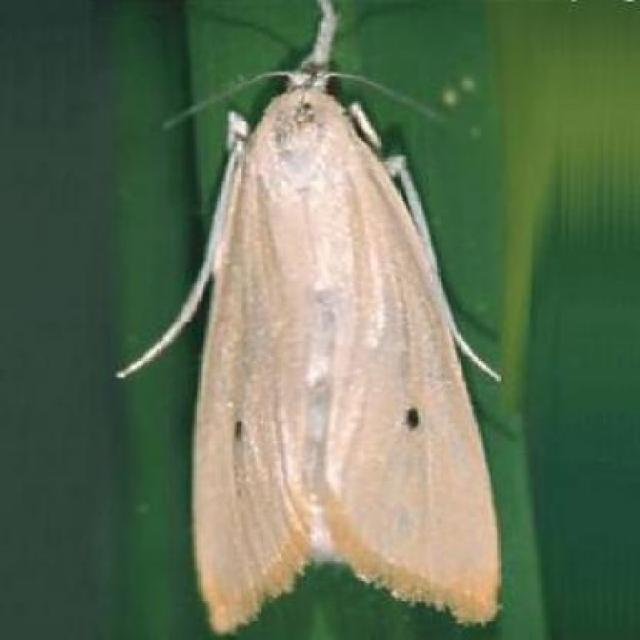stem-borer: (111, 0, 500, 640)
